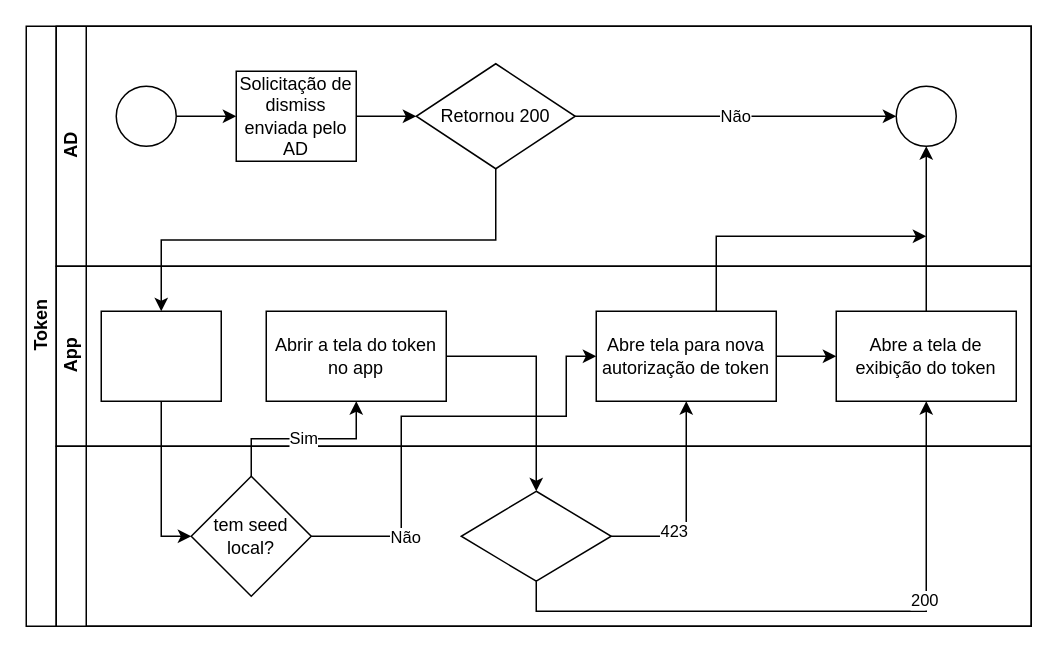
This 1058x653 diagram has some shape labels left out. Each missing label, with the box of its shape:
Chamada do método hasSeed: (100, 310, 221, 401)
checkToken: (460, 490, 611, 581)
Fim: (895, 85, 956, 146)
HB: (55, 445, 1031, 626)
Inicio: (115, 85, 176, 146)
